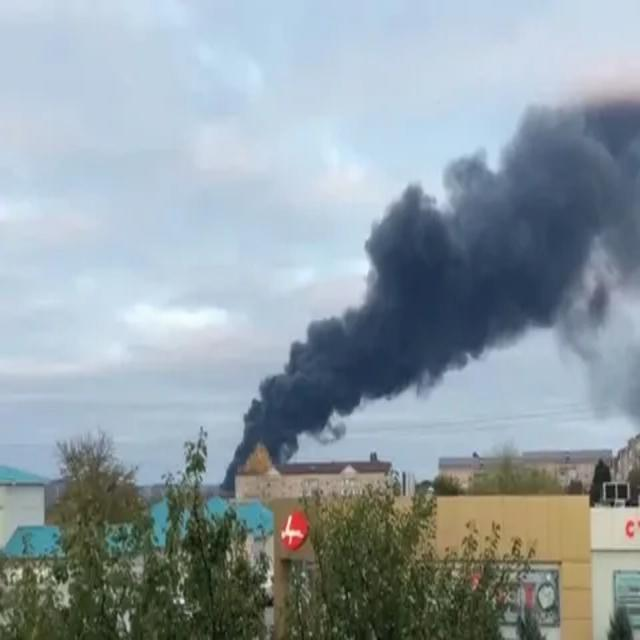Smoke: (222, 100, 640, 476)
